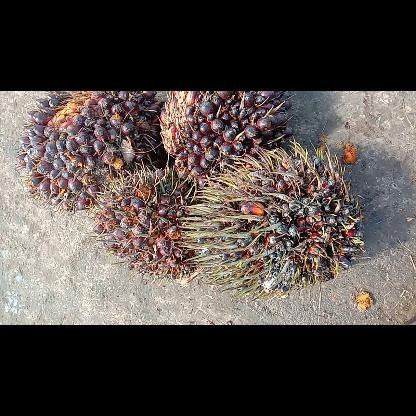Kurang masak: (161, 90, 293, 182), (96, 167, 198, 278)
TBS abnormal: (182, 142, 362, 300)
TBS masak: (19, 90, 162, 208)
